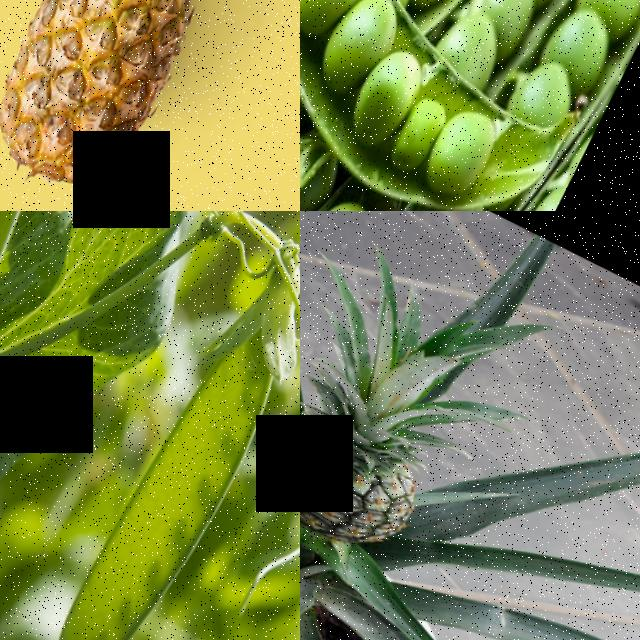peas: (300, 0, 550, 199), (439, 0, 640, 99), (516, 0, 640, 130)
pineapple: (0, 0, 278, 211), (300, 368, 449, 568)
